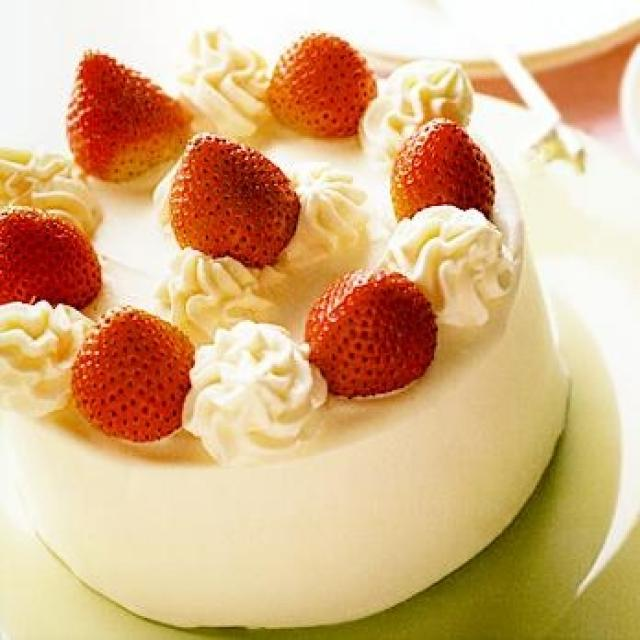蛋糕甜品: (4, 3, 614, 630)
